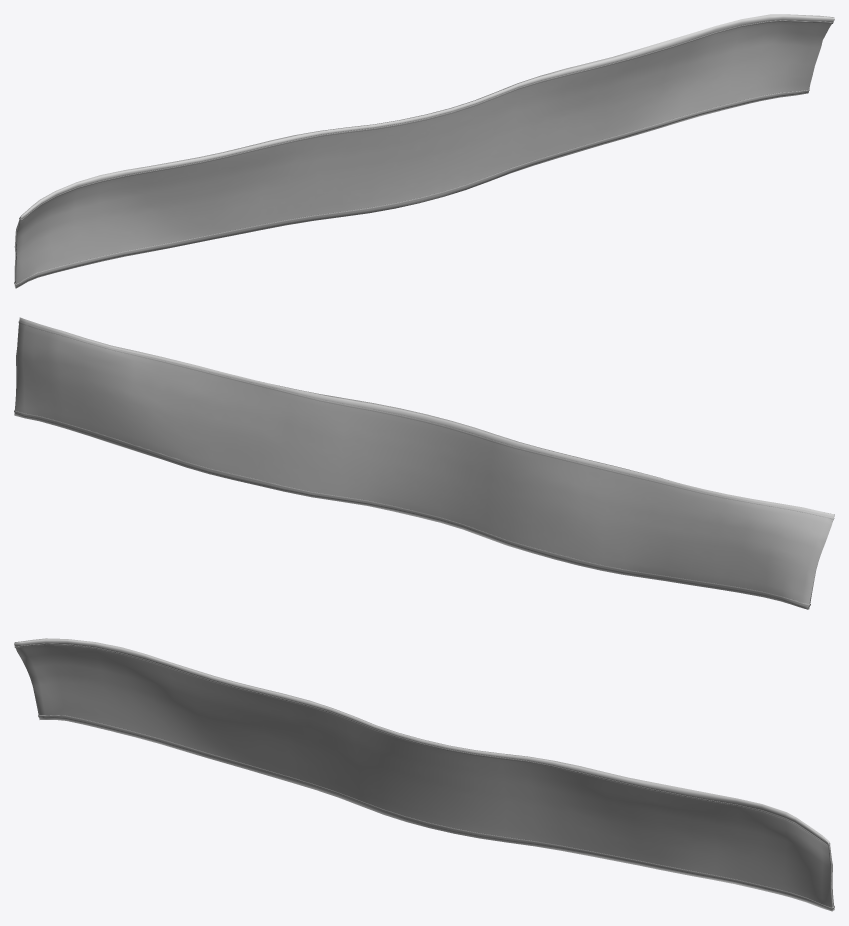
Rendered from Jac_COP_BEHIND_V2.glb.
3 views of the same model, one above another, from view 1: azimuth 30°, elevation 25°; view 2: azimuth 150°, elevation 25°; view 3: azimuth 330°, elevation 25° (orthographic).
Visible parts, largest first — view 1: Jac_COP_BEHIND_V21, Rope1; view 2: Jac_COP_BEHIND_V21, Rope1; view 3: Jac_COP_BEHIND_V21, Rope1.
Part boxes in pixels (box(x1,y1,x2,y2)): Jac_COP_BEHIND_V21: box(14, 14, 834, 288); Rope1: box(14, 20, 833, 285); Jac_COP_BEHIND_V21: box(14, 317, 834, 609); Rope1: box(14, 321, 834, 606); Jac_COP_BEHIND_V21: box(14, 638, 834, 911); Rope1: box(14, 643, 834, 909).
Size of the model in its own units: 0.7151 by 0.0859 by 0.0364.
Materials: 2 (2 with a texture image).
